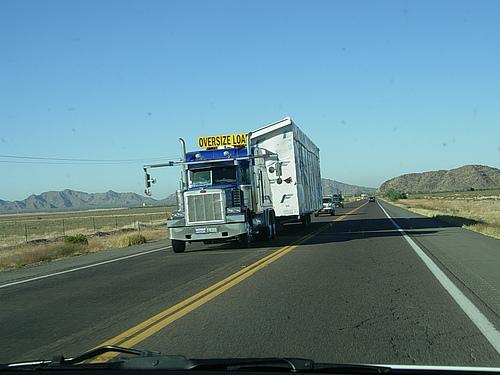truck: (165, 115, 323, 253)
